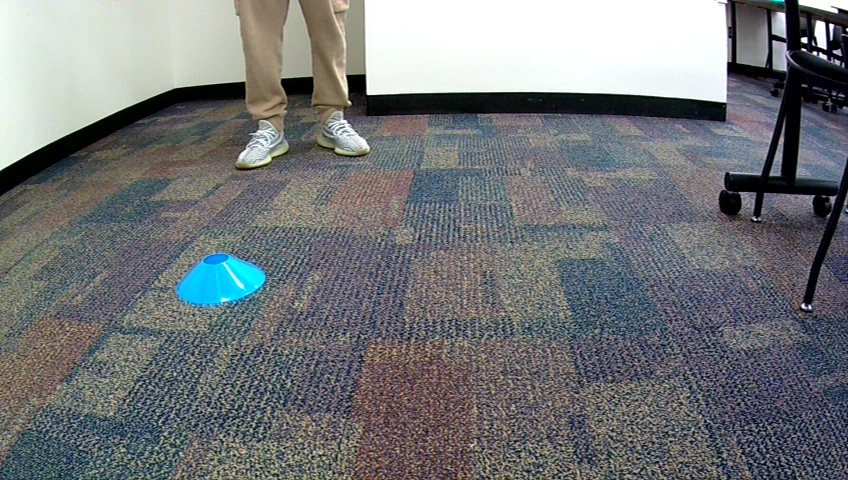cone: (176, 252, 267, 307)
